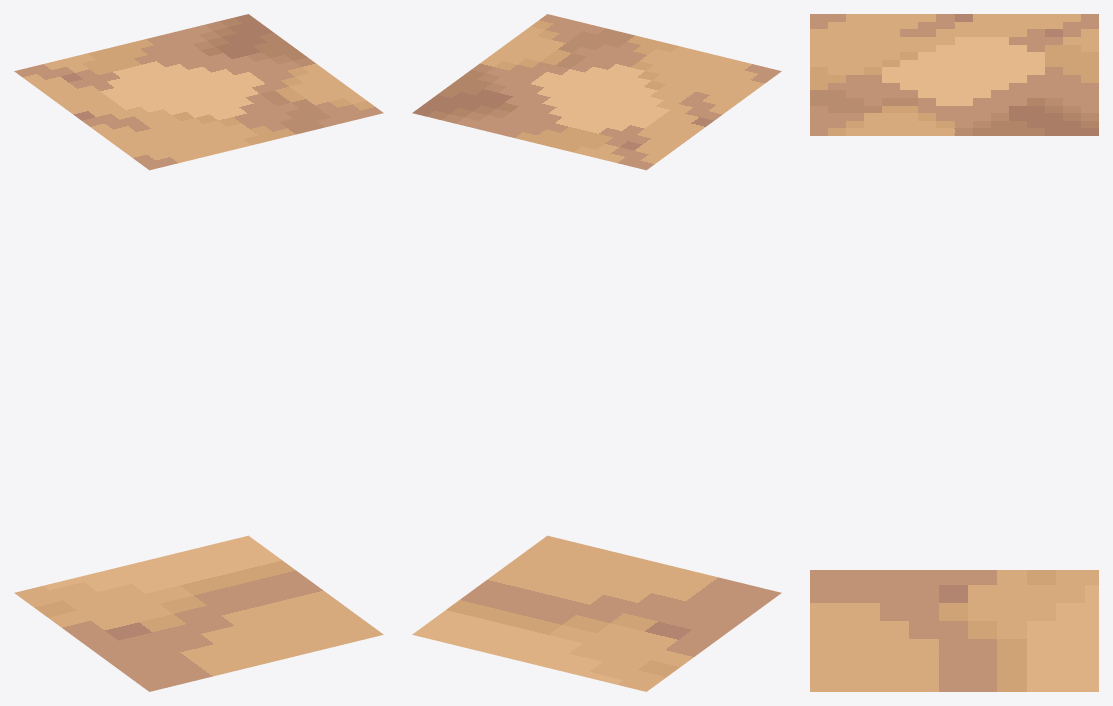
3 renders of one model, left to right at view 1: azimuth 30°, elevation 25°; view 2: azimuth 150°, elevation 25°; view 3: azimuth 270°, elevation 25°, orthographic. The views are drawn at different scales.
Bounding box in the file's own units: 1 × 2.12 × 1.
1 material, 1 textured.
